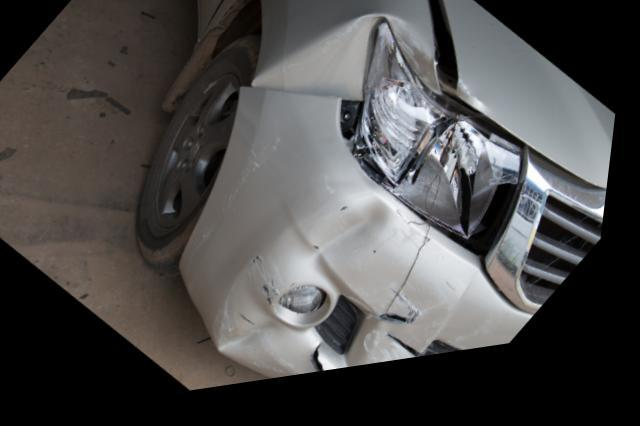crack: (396, 346, 431, 372), (321, 354, 335, 383), (385, 327, 416, 339)
dent: (255, 28, 376, 112), (317, 208, 394, 275), (227, 284, 289, 362), (388, 29, 442, 107)
dislocated part: (424, 0, 620, 214)
lamp broken: (343, 35, 529, 259)
scratch: (204, 140, 289, 258), (218, 262, 294, 349), (370, 344, 423, 377), (398, 295, 433, 337)
